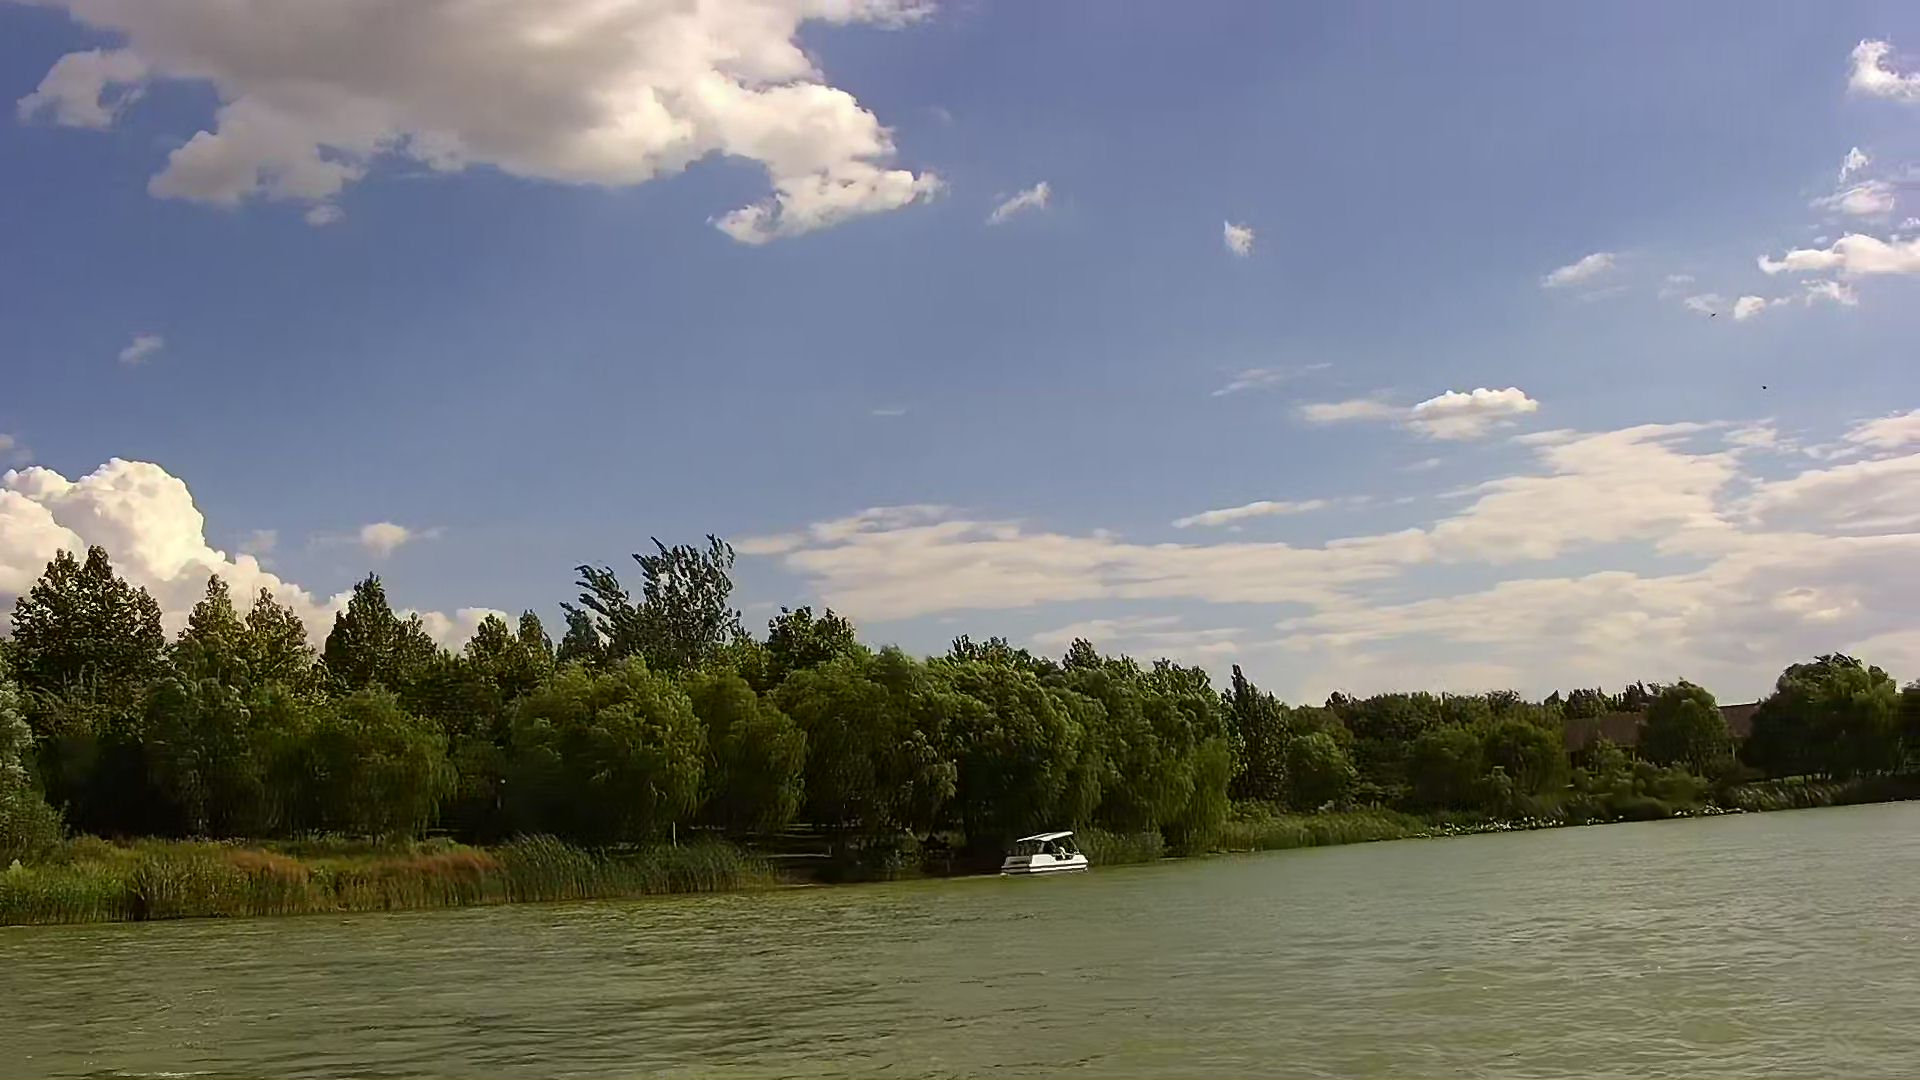boat: (997, 829, 1088, 876)
